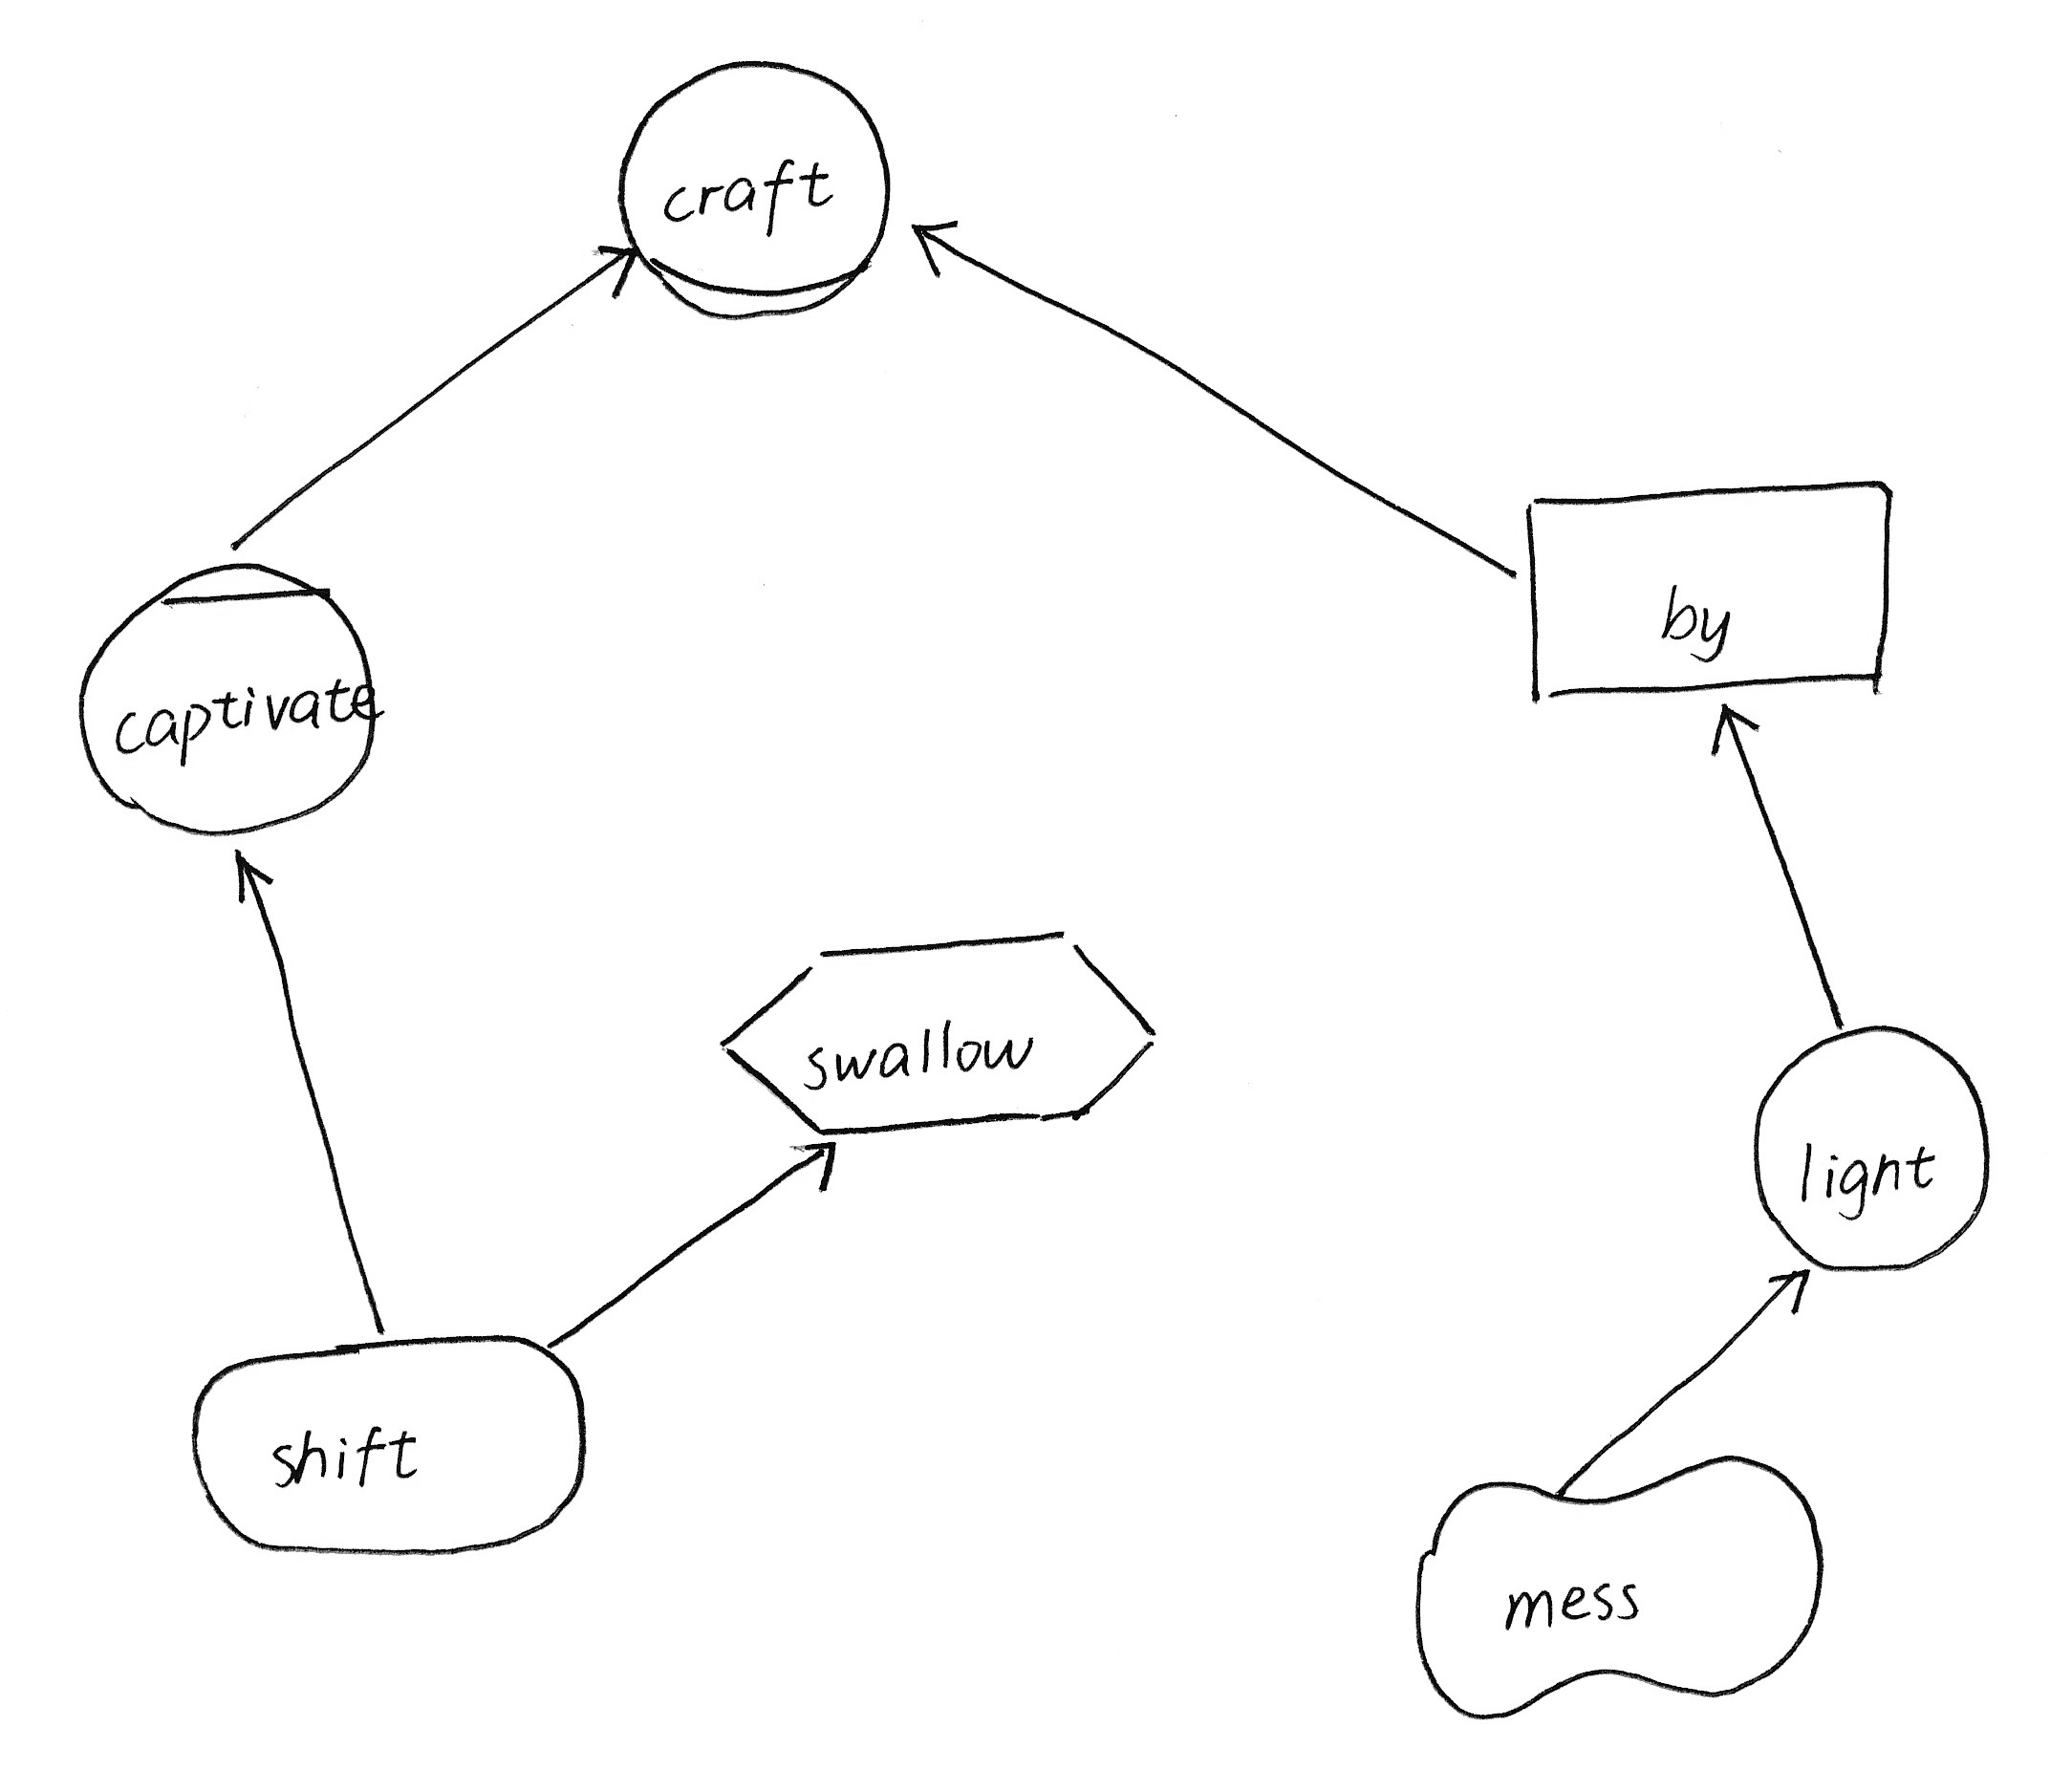actor: (1731, 1007, 2003, 1290)
agent: (62, 541, 401, 856)
arrow: (902, 204, 977, 299), (1696, 689, 1773, 768), (782, 1128, 859, 1204), (218, 829, 285, 915), (587, 220, 645, 309), (1757, 1254, 1828, 1321)
goal: (170, 1319, 605, 1572)
quality: (1388, 1432, 1833, 1725)
resource: (1501, 464, 1916, 724)
role: (606, 42, 896, 332)
task: (699, 912, 1174, 1154)
